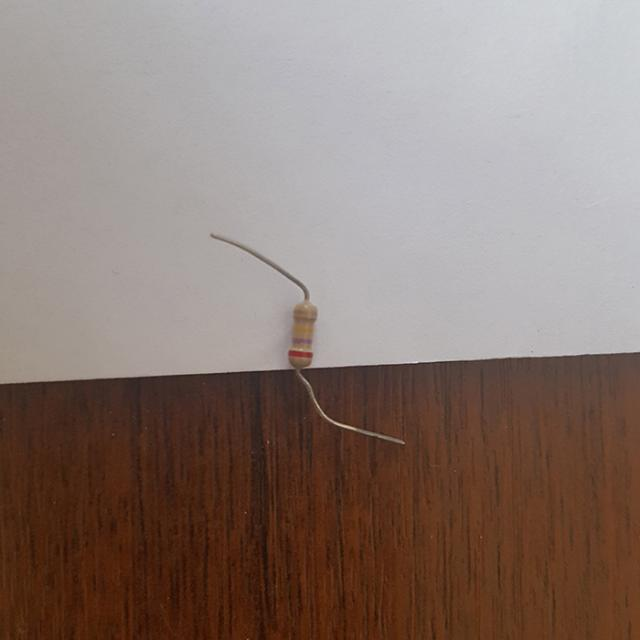gold: (293, 312, 315, 318)
red: (289, 351, 312, 357)
resistor: (278, 295, 338, 378)
violet: (293, 338, 310, 344)
yellow: (294, 325, 313, 332)
